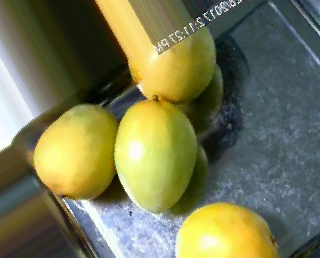Mango: (113, 98, 196, 211), (33, 105, 117, 198), (129, 21, 216, 102), (176, 203, 280, 258)
